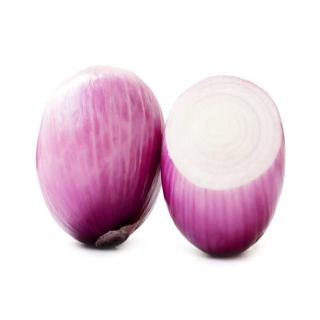Bawang Merah: (33, 63, 167, 252), (160, 72, 290, 262)
